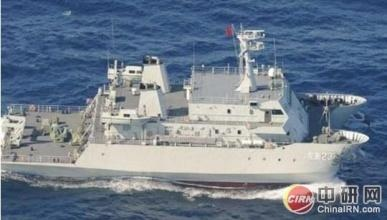warship: (4, 31, 368, 175)
